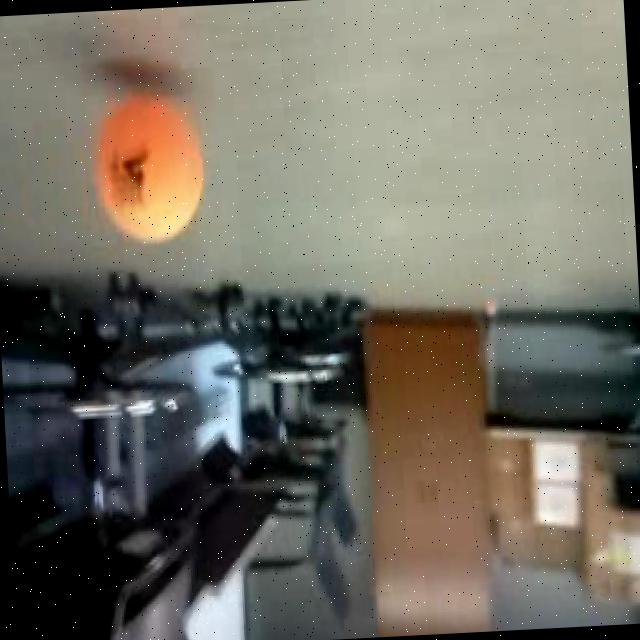ping-pong-ball: (84, 88, 211, 254)
